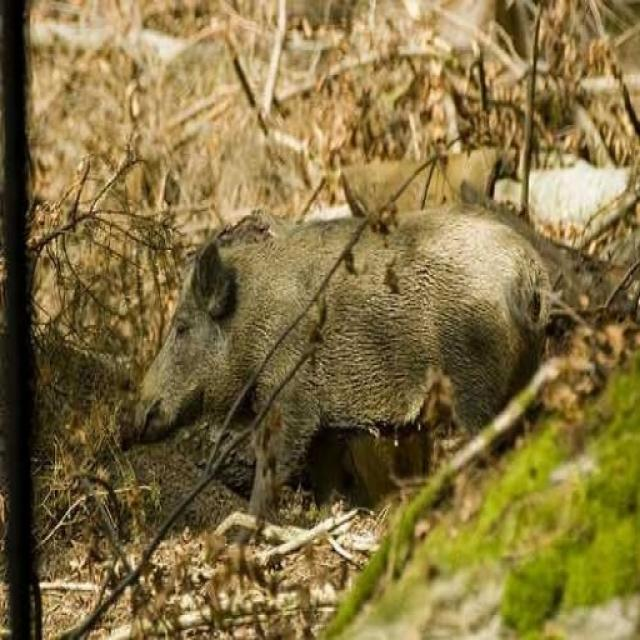pig: (119, 192, 551, 507)
